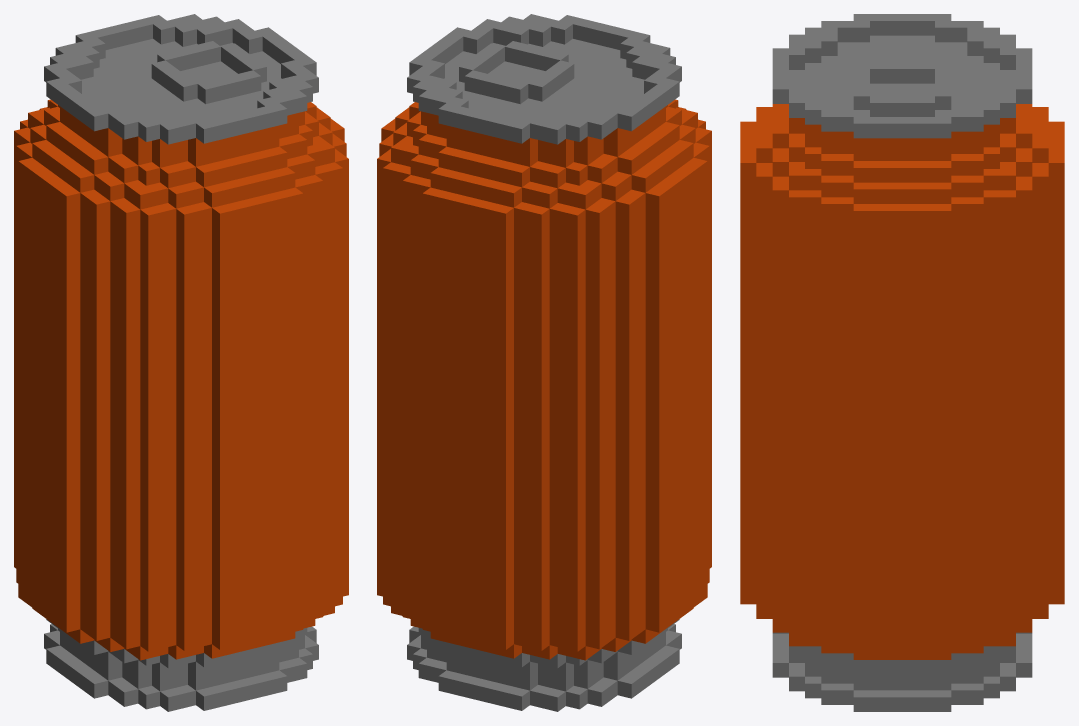
File: tölkki3ds.fbx
3 views of the same model, side by side, from view 1: azimuth 30°, elevation 25°; view 2: azimuth 150°, elevation 25°; view 3: azimuth 270°, elevation 25° (orthographic).
Visible parts, largest first — view 1: tölkkiOBJ; view 2: tölkkiOBJ; view 3: tölkkiOBJ.
Boxes of the visible parts, x1=… form: tölkkiOBJ: x1=14, y1=14, x2=348, y2=711; tölkkiOBJ: x1=377, y1=14, x2=711, y2=711; tölkkiOBJ: x1=740, y1=14, x2=1064, y2=711.
Bounding box in the file's own units: 2 × 4 × 2.
